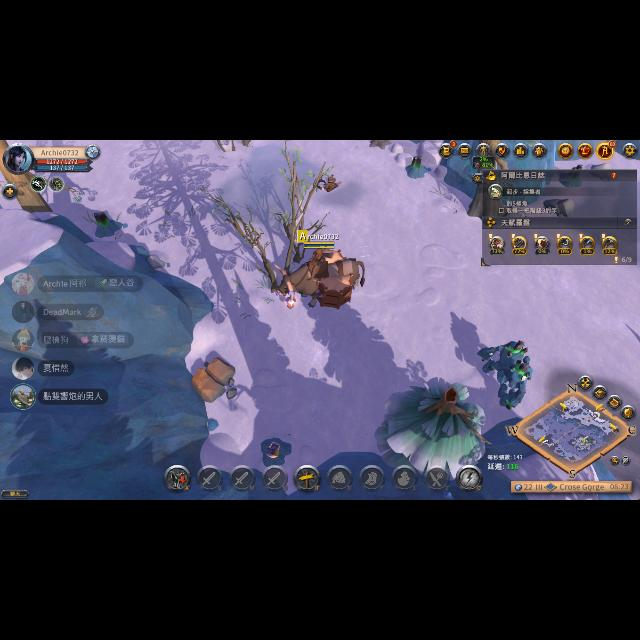mine_ii: (260, 433, 290, 465)
mine_iii: (94, 208, 125, 238), (406, 150, 430, 182)
